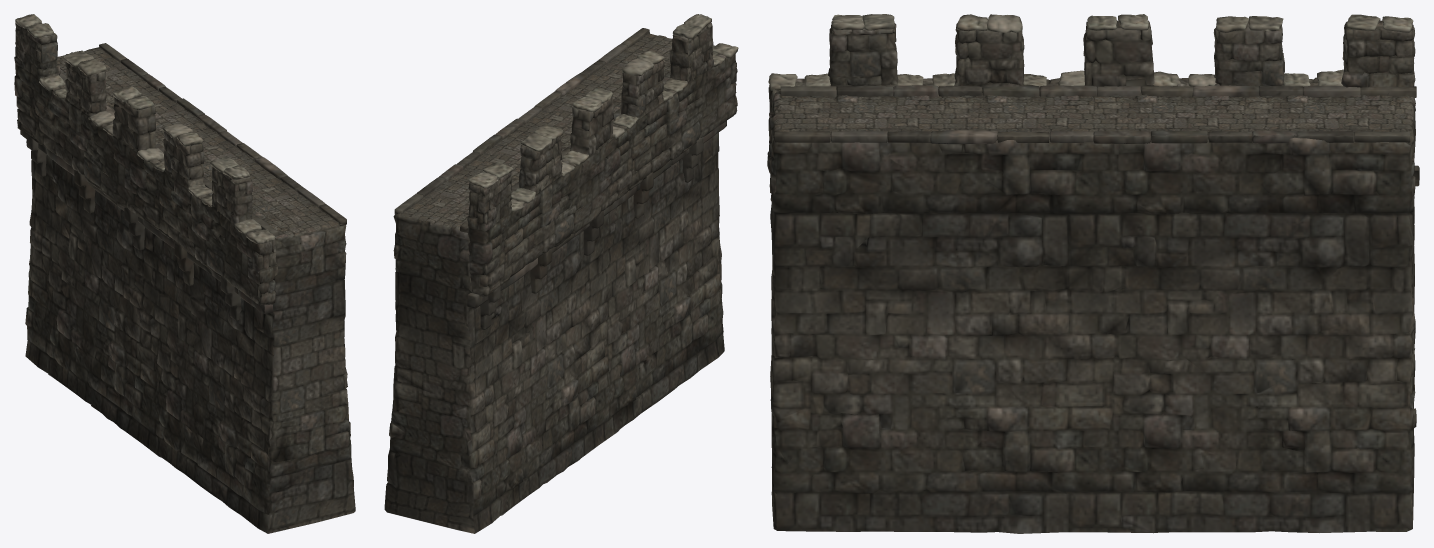
File: C_Wall.fbx
The picture shows the model from 3 angles, left to right: view 1: azimuth 30°, elevation 25°; view 2: azimuth 150°, elevation 25°; view 3: azimuth 270°, elevation 25°; orthographic projection. The views are drawn at different scales.
Visible parts, largest first — view 1: C_Wall_Base, C_Wall_Battlement, C_Wall_Tiles; view 2: C_Wall_Base, C_Wall_Battlement, C_Wall_Tiles; view 3: C_Wall_Base, C_Wall_Battlement, C_Wall_Tiles.
Part boxes in pixels (bbox=[...]): C_Wall_Base: bbox=[25, 47, 355, 533]; C_Wall_Battlement: bbox=[14, 23, 346, 320]; C_Wall_Tiles: bbox=[15, 14, 274, 244]; C_Wall_Base: bbox=[384, 32, 724, 533]; C_Wall_Battlement: bbox=[394, 22, 737, 329]; C_Wall_Tiles: bbox=[468, 14, 738, 211]; C_Wall_Base: bbox=[769, 90, 1416, 533]; C_Wall_Battlement: bbox=[767, 20, 1419, 186]; C_Wall_Tiles: bbox=[768, 14, 1413, 90].
Size of what is drawn, in the model's own units: 452 by 1394 by 1812.
